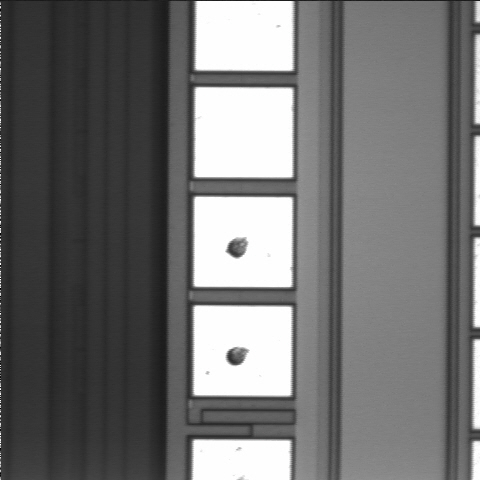pad: (195, 87, 293, 178), (194, 197, 292, 287), (194, 306, 292, 396)
